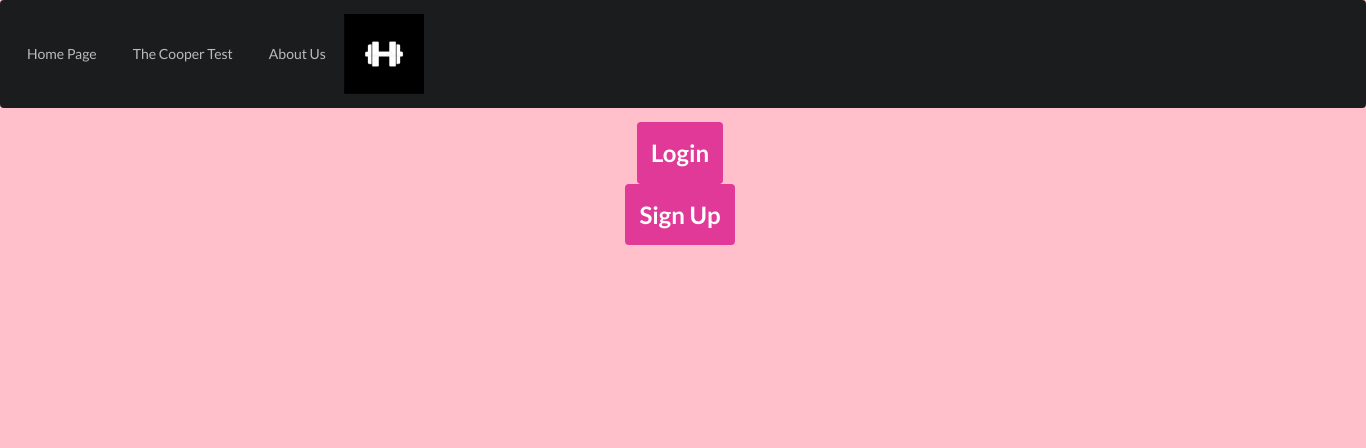
Scenario: Cooper Client calculates successfully › calculates cooper performance
Click the button with id "login" at (680, 153), box [637,122,723,184]
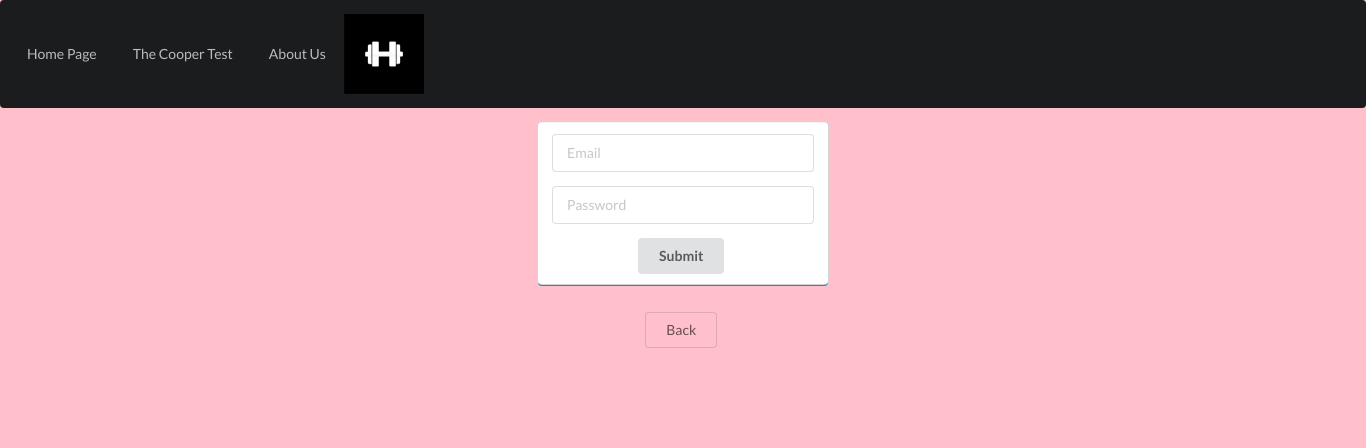
Type "hej@gmail.com" into the field with id "email" at (683, 153), box [552,134,814,172]
Type "password" into the password field with placeholder "Password" at (683, 205), box [552,186,814,224]
Click the button "Submit" at (682, 256), box [638,238,725,274]
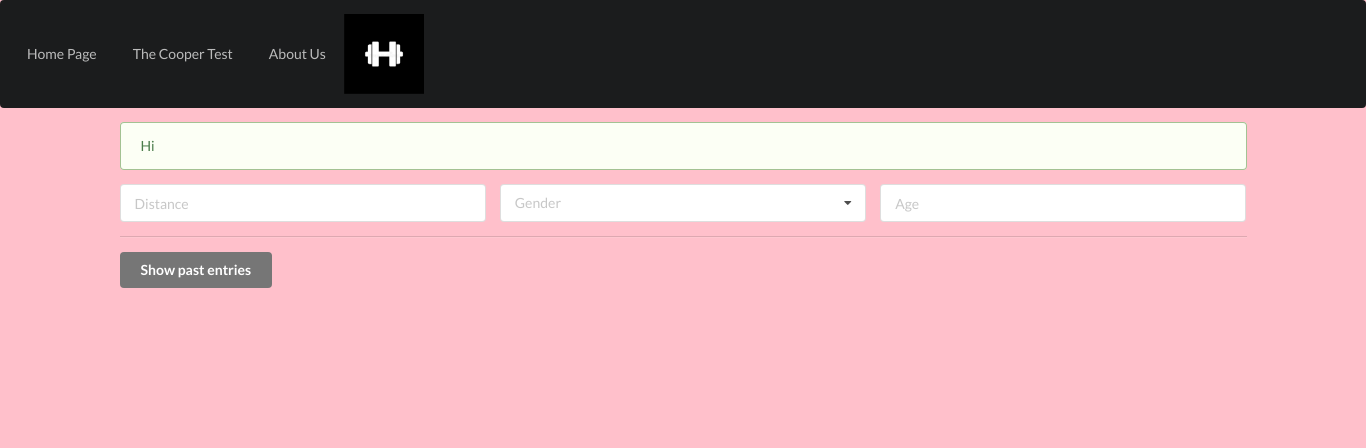
Type "1000" into the field with id "distance" at (303, 203), box [120,184,486,222]
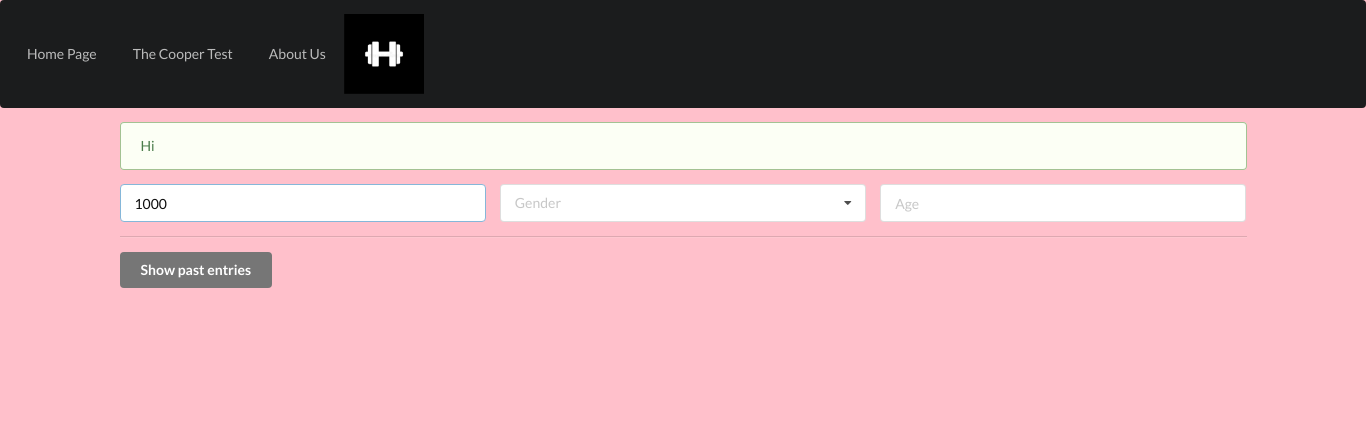
Click the list with id "gender" at (683, 203), box [500,184,866,222]
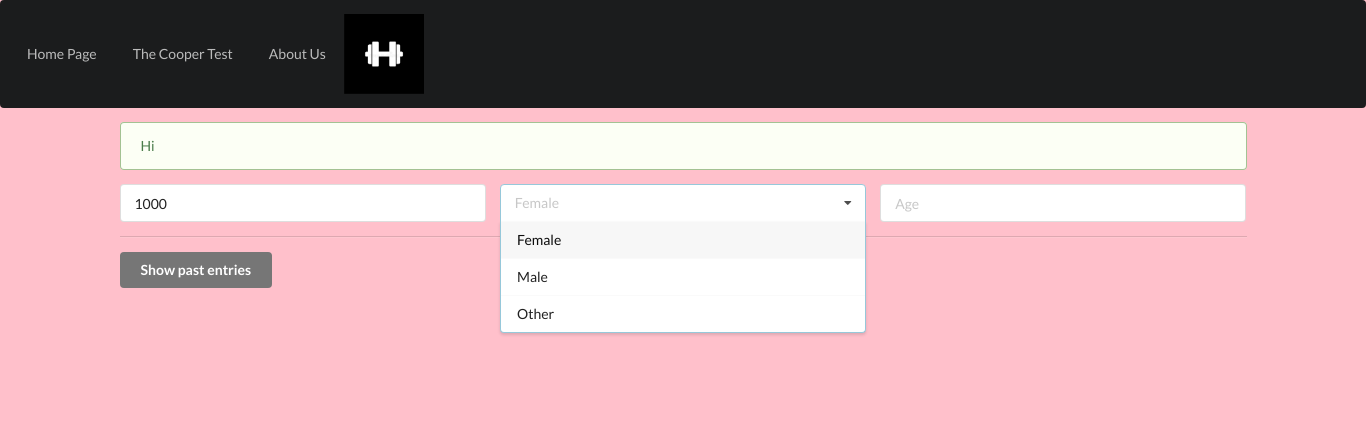
Press Enter in the list with id "gender", box [500,184,866,222]
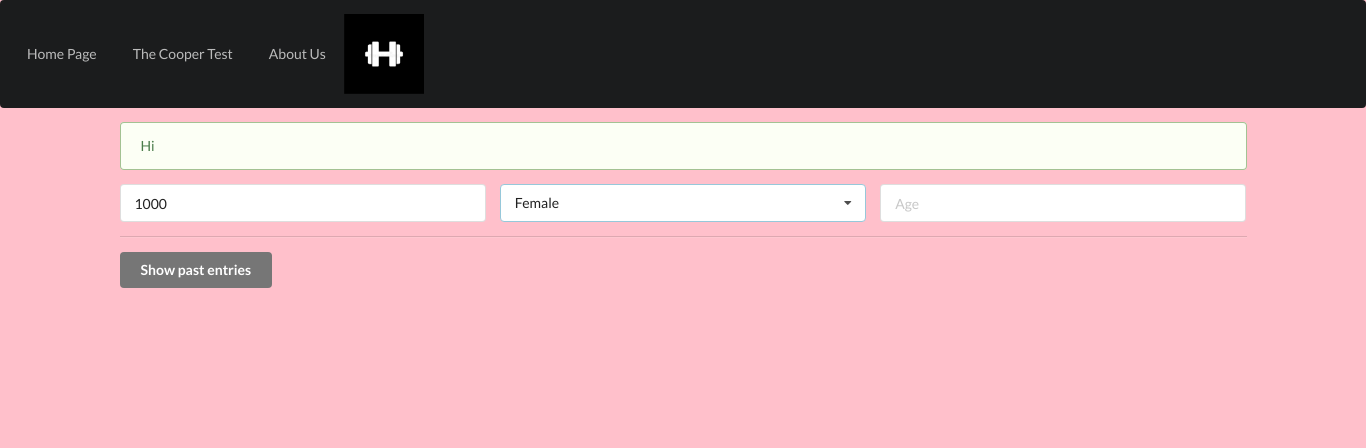
Type "23" into the field with id "age" at (1063, 203), box [880,184,1246,222]
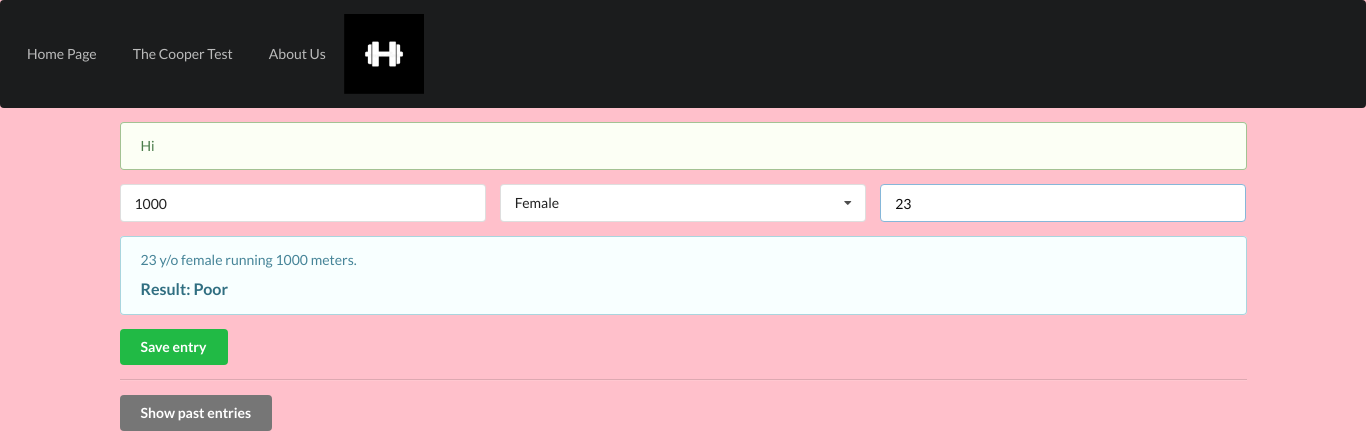
Expected: the text with id "cooper-message" reads "23 y/o female running 1000 meters.", [141,251,357,268]
Expected: the text with id "cooper-result" reads "Result: Poor", [141,279,229,298]
